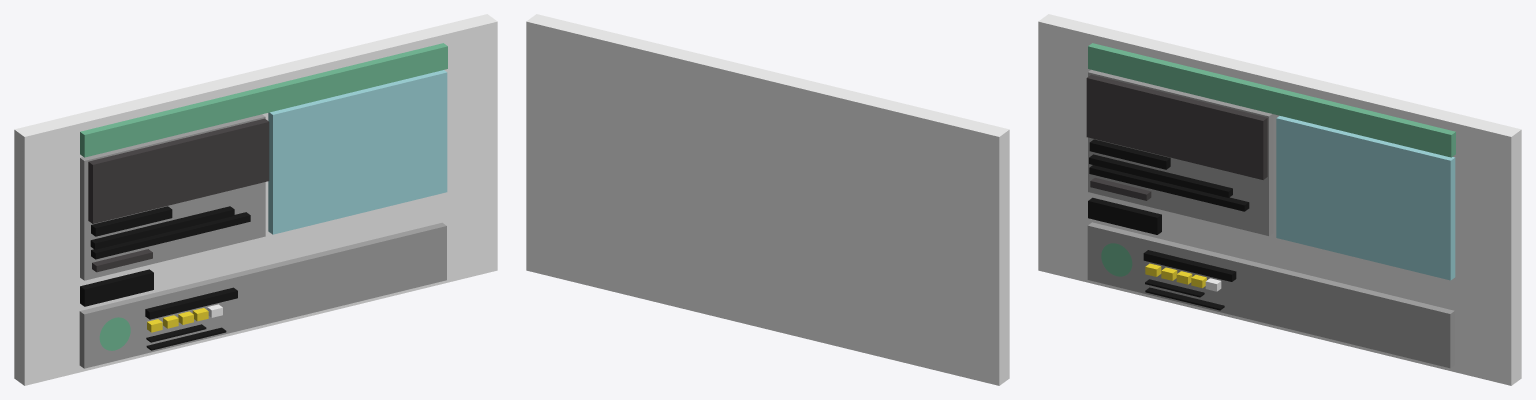
3 renders of one model, left to right at view 1: azimuth 30°, elevation 25°; view 2: azimuth 150°, elevation 25°; view 3: azimuth 330°, elevation 25°, orthographic.
Parts seen in each view (by area): view 1: Cube; view 2: Cube; view 3: Cube.
Part boxes in pixels (box(x1,y1,x2,y2)): Cube: box(14, 14, 497, 385); Cube: box(526, 14, 1009, 385); Cube: box(1038, 14, 1521, 385).
Size of the model in its own units: 20.43 by 10.27 by 1.51.
